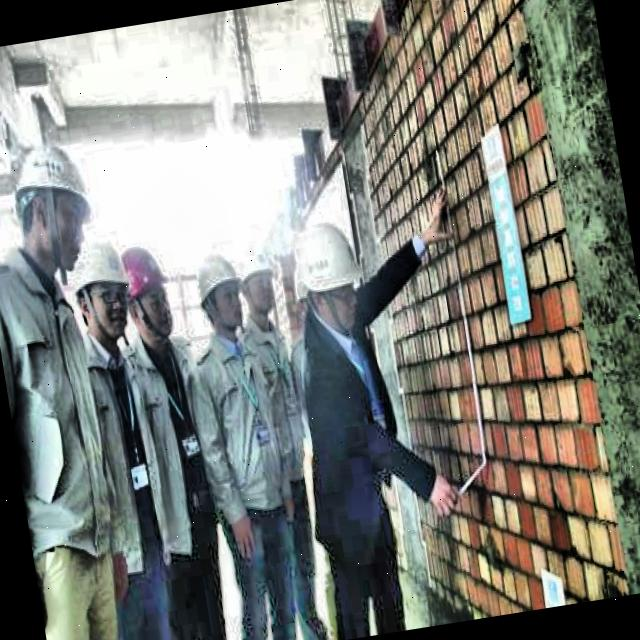helmet: (5, 133, 98, 280), (289, 205, 372, 338), (53, 228, 139, 356), (116, 238, 175, 344), (188, 245, 252, 340), (230, 234, 282, 322)
